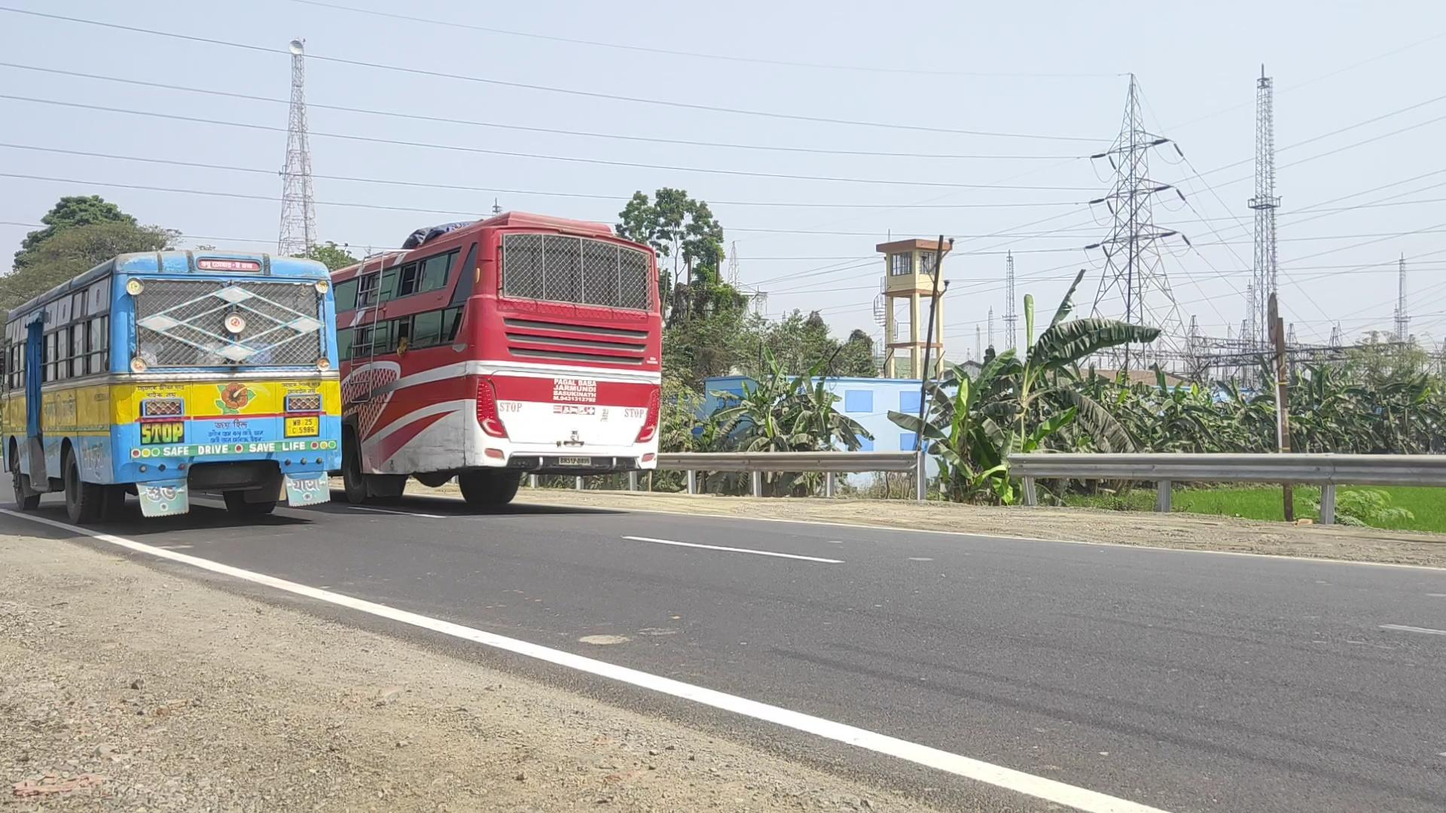Bus: (328, 212, 662, 506), (1, 249, 341, 525)
